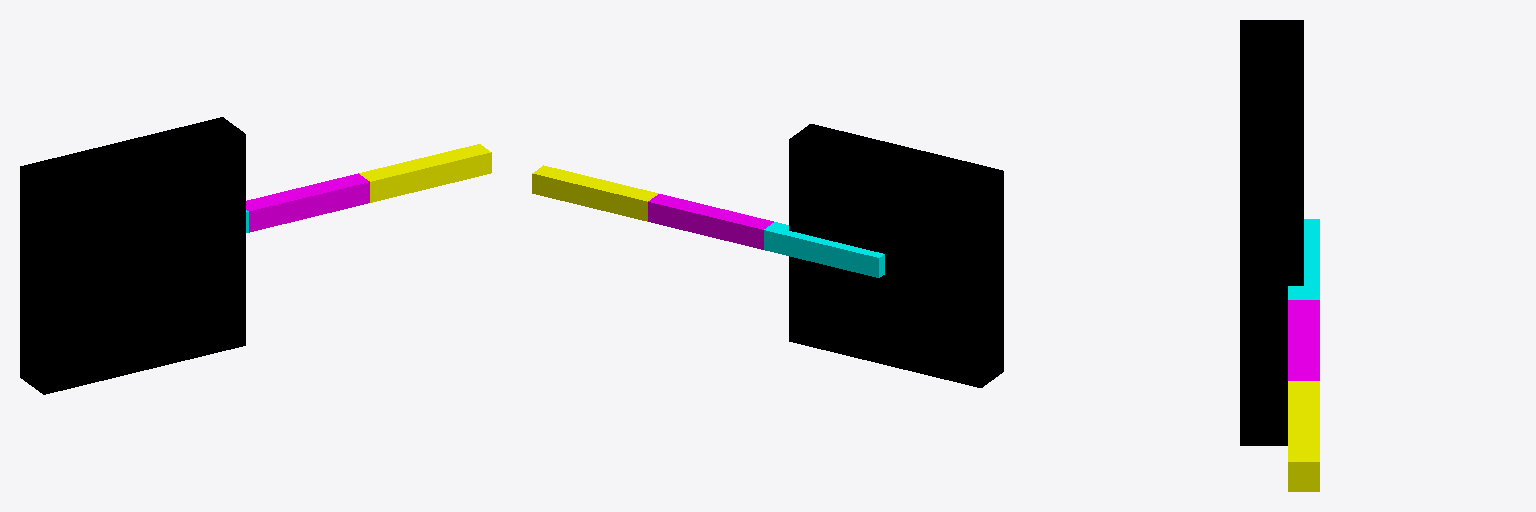
URDF robot description (robot):
<robot name="robot">
  <!--Descripción de los eslabones-->
  <link name="base_link">
    <visual>
      <geometry>
        <box size="0.5 0.1 0.5"/>
      </geometry>
      <origin xyz="0 -0.05 0"/>
      <material name="black">
        <color rgba="0 0 0 0.5"/>
      </material>
    </visual>
  </link>

  <link name="shoulder_link">
    <visual>
      <geometry>
        <box size="0.3 0.05 0.05"/>
      </geometry>
      <origin xyz="0.15 0 0"/>
      <material name="cyan">
        <color rgba="0 1 1 1"/>
      </material>
    </visual>
  </link>
  <link name="arm_link">
    <visual>
      <geometry>
        <box size="0.3 0.05 0.05"/>
      </geometry>
      <origin xyz="0.15 0 0"/>
      <material name="magenta">
        <color rgba="1 0 1 1"/>
      </material>
    </visual>
  </link>
  <link name="forearm_link">
    <visual>
      <geometry>
        <box size="0.3 0.05 0.05"/>
      </geometry>
      <origin xyz="0.15 0 0"/>
      <material name="yellow">
        <color rgba="1 1 0 1"/>
      </material>
    </visual>
  </link>

  <!--Descripción de las juntas-->
  <joint name="shoulder_joint" type="revolute"> <!--tipo de junta: revolute, prismatic, fixed-->
    <parent link="base_link"/>
    <child link="shoulder_link"/>
    <axis xyz="0 0 1"/>
    <limit lower="-3.14" upper ="3.14"/>
  </joint>
  <joint name="arm_joint" type="revolute"> <!--tipo de junta: revolute, prismatic, fixed-->
    <parent link="shoulder_link"/>
    <child link="arm_link"/>
    <axis xyz="0 0 1"/>
    <limit lower="-3.14" upper ="3.14"/>
    <origin xyz="0.3 0 0"/>
  </joint>
  <joint name="forearm_joint" type="revolute"> <!--tipo de junta: revolute, prismatic, fixed-->
    <parent link="arm_link"/>
    <child link="forearm_link"/>
    <axis xyz="0 0 1"/>
    <limit lower="-3.14" upper ="3.14"/>
    <origin xyz="0.3 0 0"/>
  </joint>
</robot>

--- Facts derived from the render (not from the file) ---
The picture shows the robot from 3 angles, left to right: view 1: azimuth 30°, elevation 25°; view 2: azimuth 150°, elevation 25°; view 3: azimuth 270°, elevation 25°; orthographic projection.
Robot: robot — 4 links, 3 joints (3 revolute); root link base_link; default pose: all joints at 0.
Visible links, largest first — view 1: base_link, forearm_link, arm_link; view 2: base_link, forearm_link, arm_link, shoulder_link; view 3: base_link, forearm_link, arm_link, shoulder_link.
Boxes of the visible links, box(x1,y1,x2,y2) form: base_link: box(20, 117, 245, 394); forearm_link: box(359, 144, 491, 202); arm_link: box(246, 173, 369, 232); base_link: box(789, 124, 1003, 387); forearm_link: box(532, 165, 658, 221); arm_link: box(648, 194, 773, 249); shoulder_link: box(764, 222, 884, 277); base_link: box(1240, 20, 1303, 445); forearm_link: box(1288, 381, 1319, 491); arm_link: box(1288, 300, 1319, 380); shoulder_link: box(1288, 219, 1319, 299).
Bounding box of the posed robot: 1.15 × 0.125 × 0.5 m (x, y, z).
Geometry: primitives only (box / cylinder / sphere), no mesh files.
